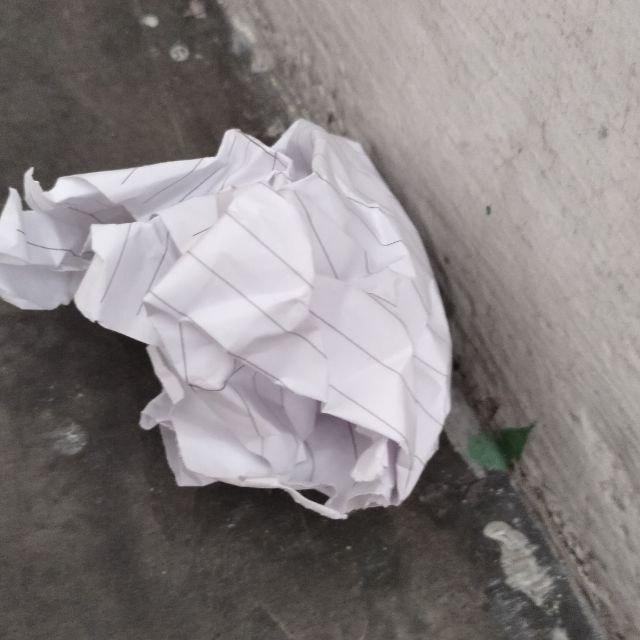paper: (0, 106, 480, 519)
